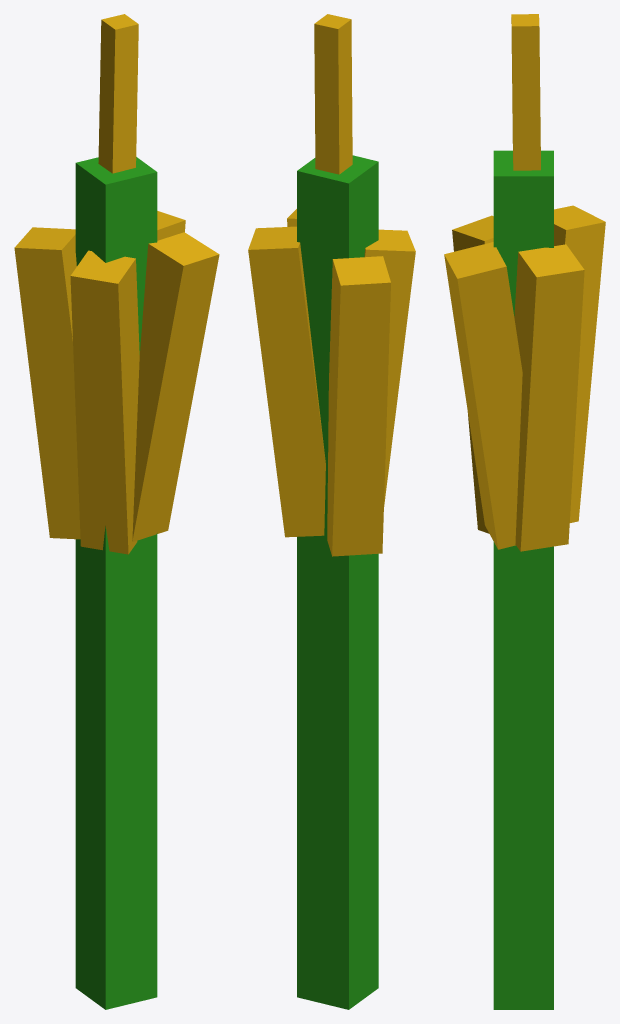
The model's file is cornStalk.fbx.
3 views of the same model, side by side, from view 1: azimuth 30°, elevation 25°; view 2: azimuth 150°, elevation 25°; view 3: azimuth 270°, elevation 25° (orthographic).
Visible parts, largest first — view 1: Cube; view 2: Cube; view 3: Cube.
Boxes of the visible parts, x1,y1,x2,y2 form: Cube: [14, 14, 219, 1009]; Cube: [248, 14, 415, 1009]; Cube: [444, 14, 605, 1009].
Bounding box in the file's own units: 251 × 1519 × 227.
